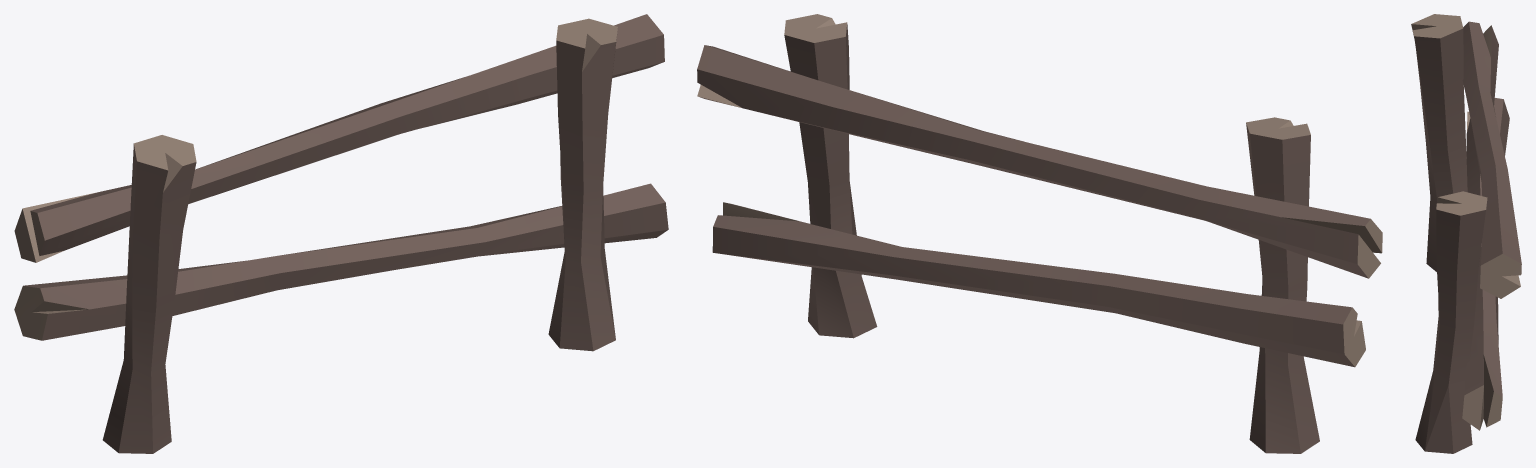
3 views of the same model, side by side, from view 1: azimuth 30°, elevation 25°; view 2: azimuth 150°, elevation 25°; view 3: azimuth 270°, elevation 25° (orthographic). The views are drawn at different scales.
Visible parts, largest first — view 1: fence_1.003; view 2: fence_1.003; view 3: fence_1.003.
Part boxes in pixels (box(x1,y1,x2,y2)): fence_1.003: box(14, 14, 668, 453); fence_1.003: box(697, 14, 1382, 453); fence_1.003: box(1411, 14, 1521, 453).
Bounding box in the file's own units: 1.84 × 0.8099 × 0.3276.
Materials: 1 (1 with a texture image).
